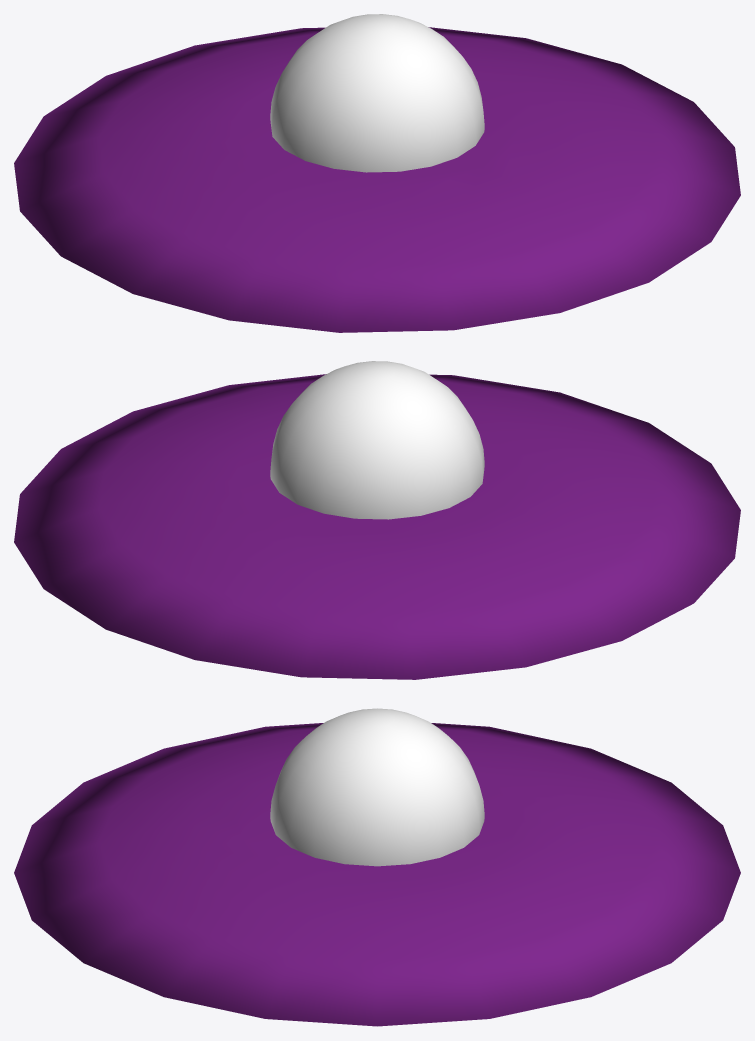
The model's file is UFO.fbx.
3 renders of one model, top to bottom at view 1: azimuth 30°, elevation 25°; view 2: azimuth 150°, elevation 25°; view 3: azimuth 270°, elevation 25°, orthographic.
Parts seen in each view (by area): view 1: UFO, Dome; view 2: UFO, Dome; view 3: UFO, Dome.
Part boxes in pixels (x1=…): UFO: x1=14, y1=27, x2=740, y2=332; Dome: x1=270, y1=14, x2=484, y2=172; UFO: x1=14, y1=374, x2=740, y2=679; Dome: x1=270, y1=361, x2=484, y2=519; UFO: x1=14, y1=723, x2=740, y2=1026; Dome: x1=270, y1=708, x2=484, y2=866.
Bounding box in the file's own units: 183 × 65.57 × 183.
